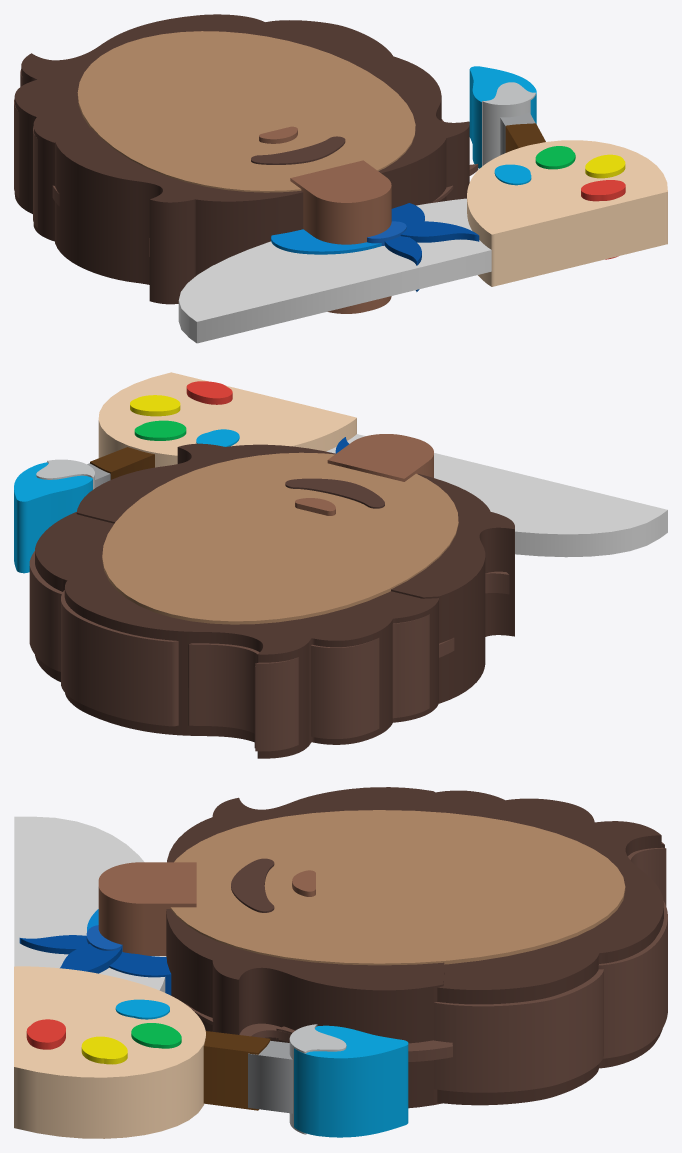
Rendered from emoji_u1f9d1_1f3fd_200d_1f3a8.glb.
3 renders of one model, top to bottom at view 1: azimuth 30°, elevation 25°; view 2: azimuth 150°, elevation 25°; view 3: azimuth 270°, elevation 25°, orthographic. The views are drawn at different scales.
Visible parts, largest first — view 1: emoji_u1f9d1_1f3fd_200d_1f3a8; view 2: emoji_u1f9d1_1f3fd_200d_1f3a8; view 3: emoji_u1f9d1_1f3fd_200d_1f3a8.
Boxes of the visible parts, x1,y1,x2,y2 form: emoji_u1f9d1_1f3fd_200d_1f3a8: [14, 14, 667, 343]; emoji_u1f9d1_1f3fd_200d_1f3a8: [14, 372, 667, 758]; emoji_u1f9d1_1f3fd_200d_1f3a8: [14, 787, 667, 1138].
Size of the model in its own units: 0.0332 by 0.0074 by 0.0329.
